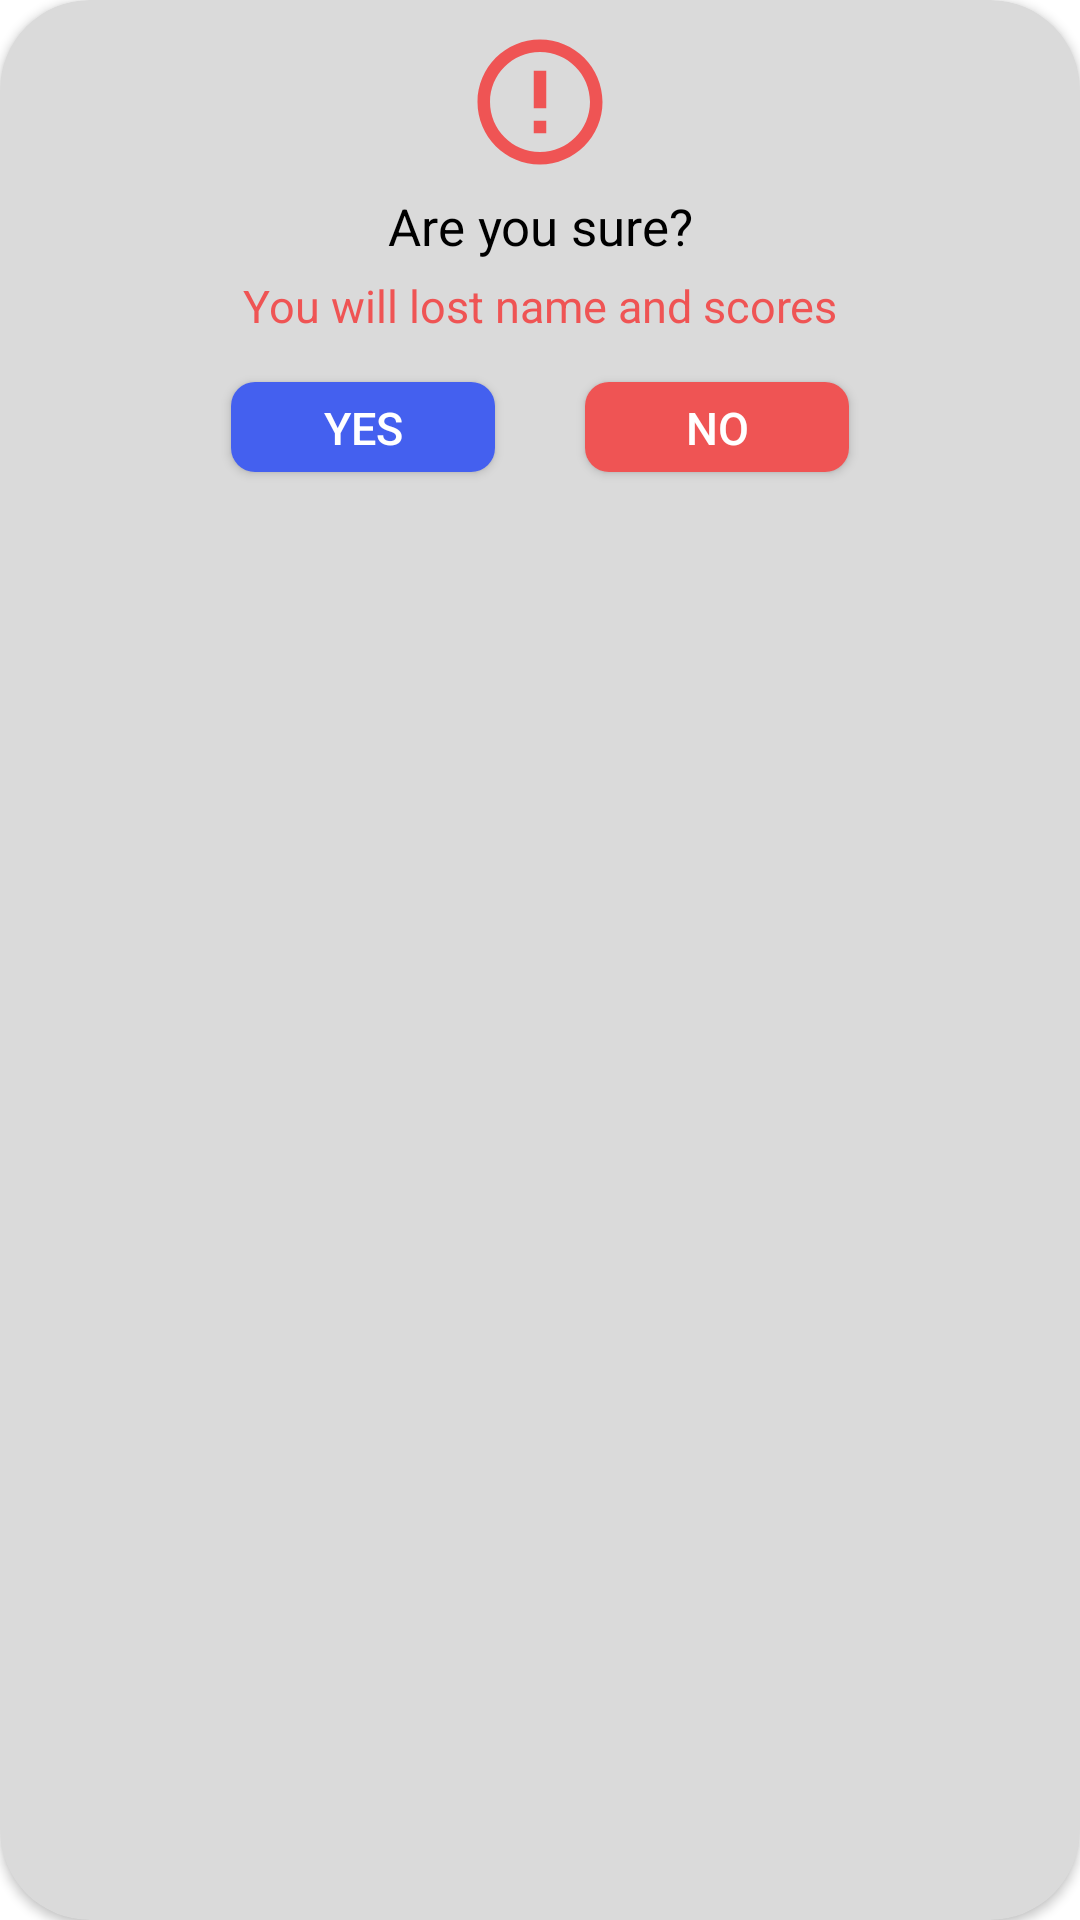

Point at icon controls on the screen. Image size 1080 × 1920, points as (x=x, y=y).
alert: (x=540, y=102)
